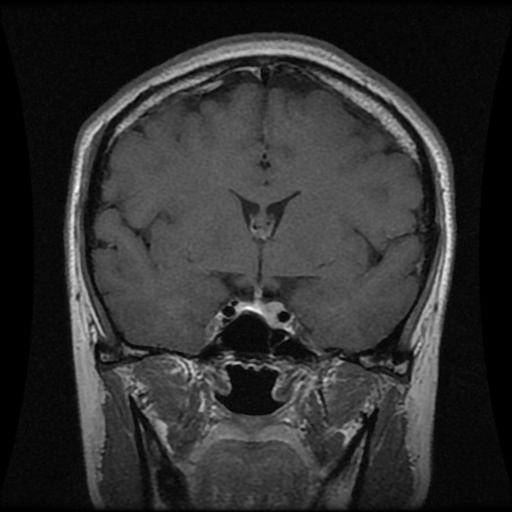pituitary: (235, 287, 284, 328)
